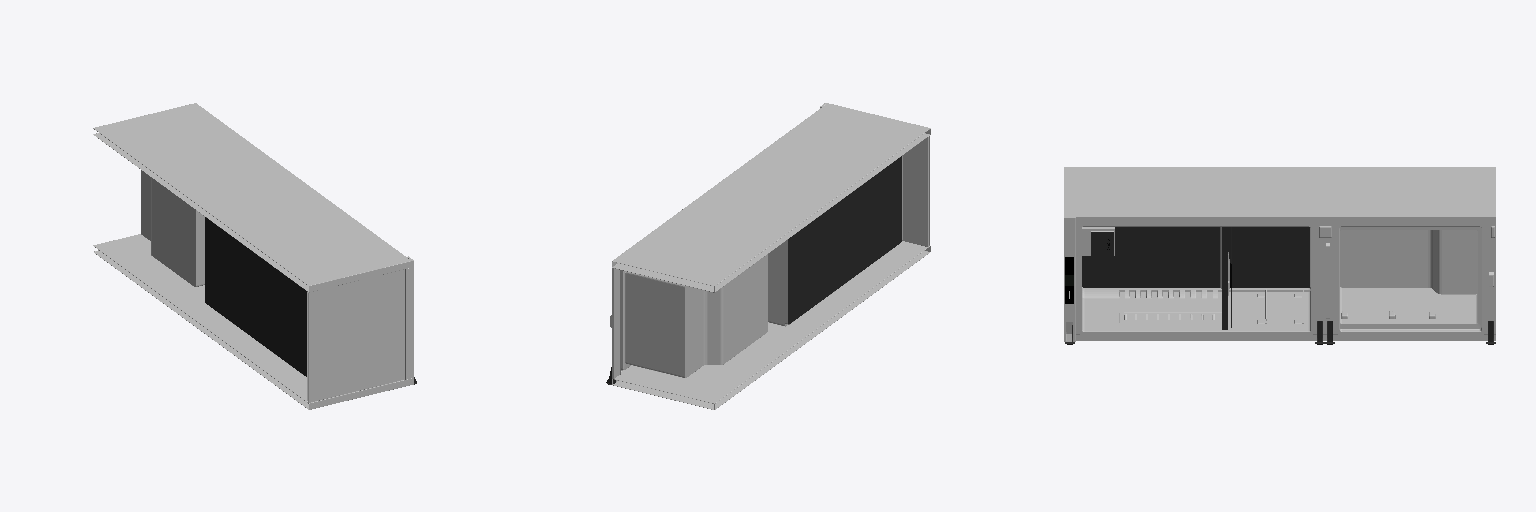
The model's file is FridgeBase.obj.
3 views of the same model, side by side, from view 1: azimuth 30°, elevation 25°; view 2: azimuth 150°, elevation 25°; view 3: azimuth 270°, elevation 25° (orthographic).
Visible parts, largest first — view 1: FridgeBase; view 2: FridgeBase; view 3: FridgeBase.
Part boxes in pixels (bbox=[...]): FridgeBase: bbox=[93, 103, 416, 409]; FridgeBase: bbox=[606, 103, 930, 409]; FridgeBase: bbox=[1064, 167, 1495, 344].
Bounding box in the file's own units: 0.5163 × 0.5588 × 1.76.